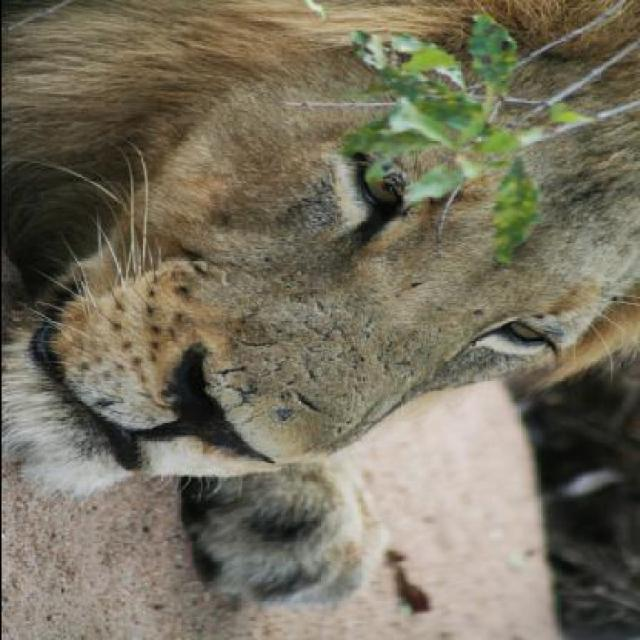Lion: (2, 1, 624, 617)
